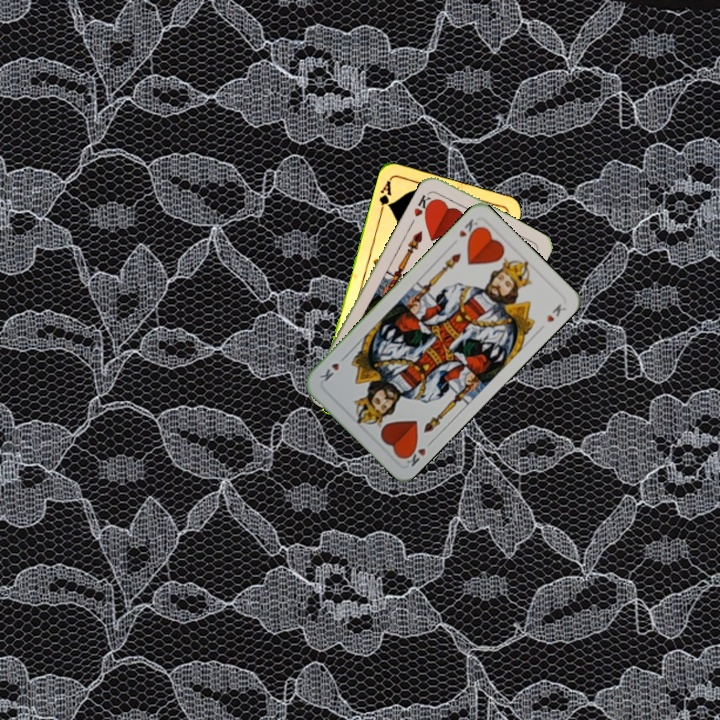GA: (375, 177, 394, 216)
HK: (399, 436, 436, 469), (410, 187, 437, 220), (455, 215, 484, 243)
